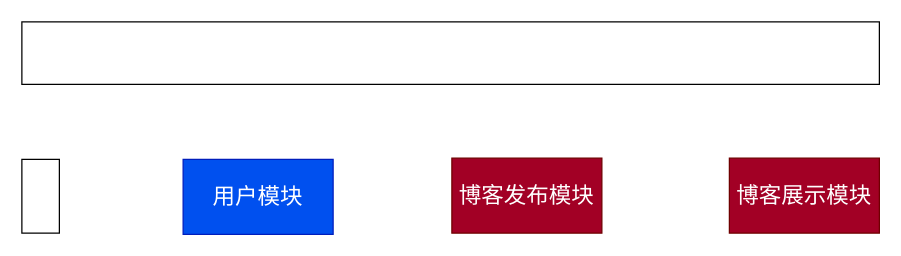
The diagram is 901 pixels wide and 256 high, and some of its shapes have lost their labels. The shapes that lost their labels are listed below. From the top down, each one's centre as x and y in pixels, then its label:
point (450, 52): 蜉蝣能力系统
point (40, 195): V1
